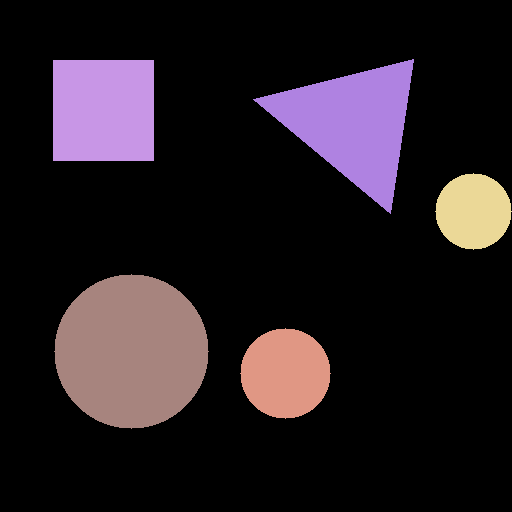circle: (54, 274, 208, 428), (240, 328, 330, 418), (435, 173, 511, 249)
square: (53, 60, 153, 160)
triangle: (253, 59, 413, 213)
